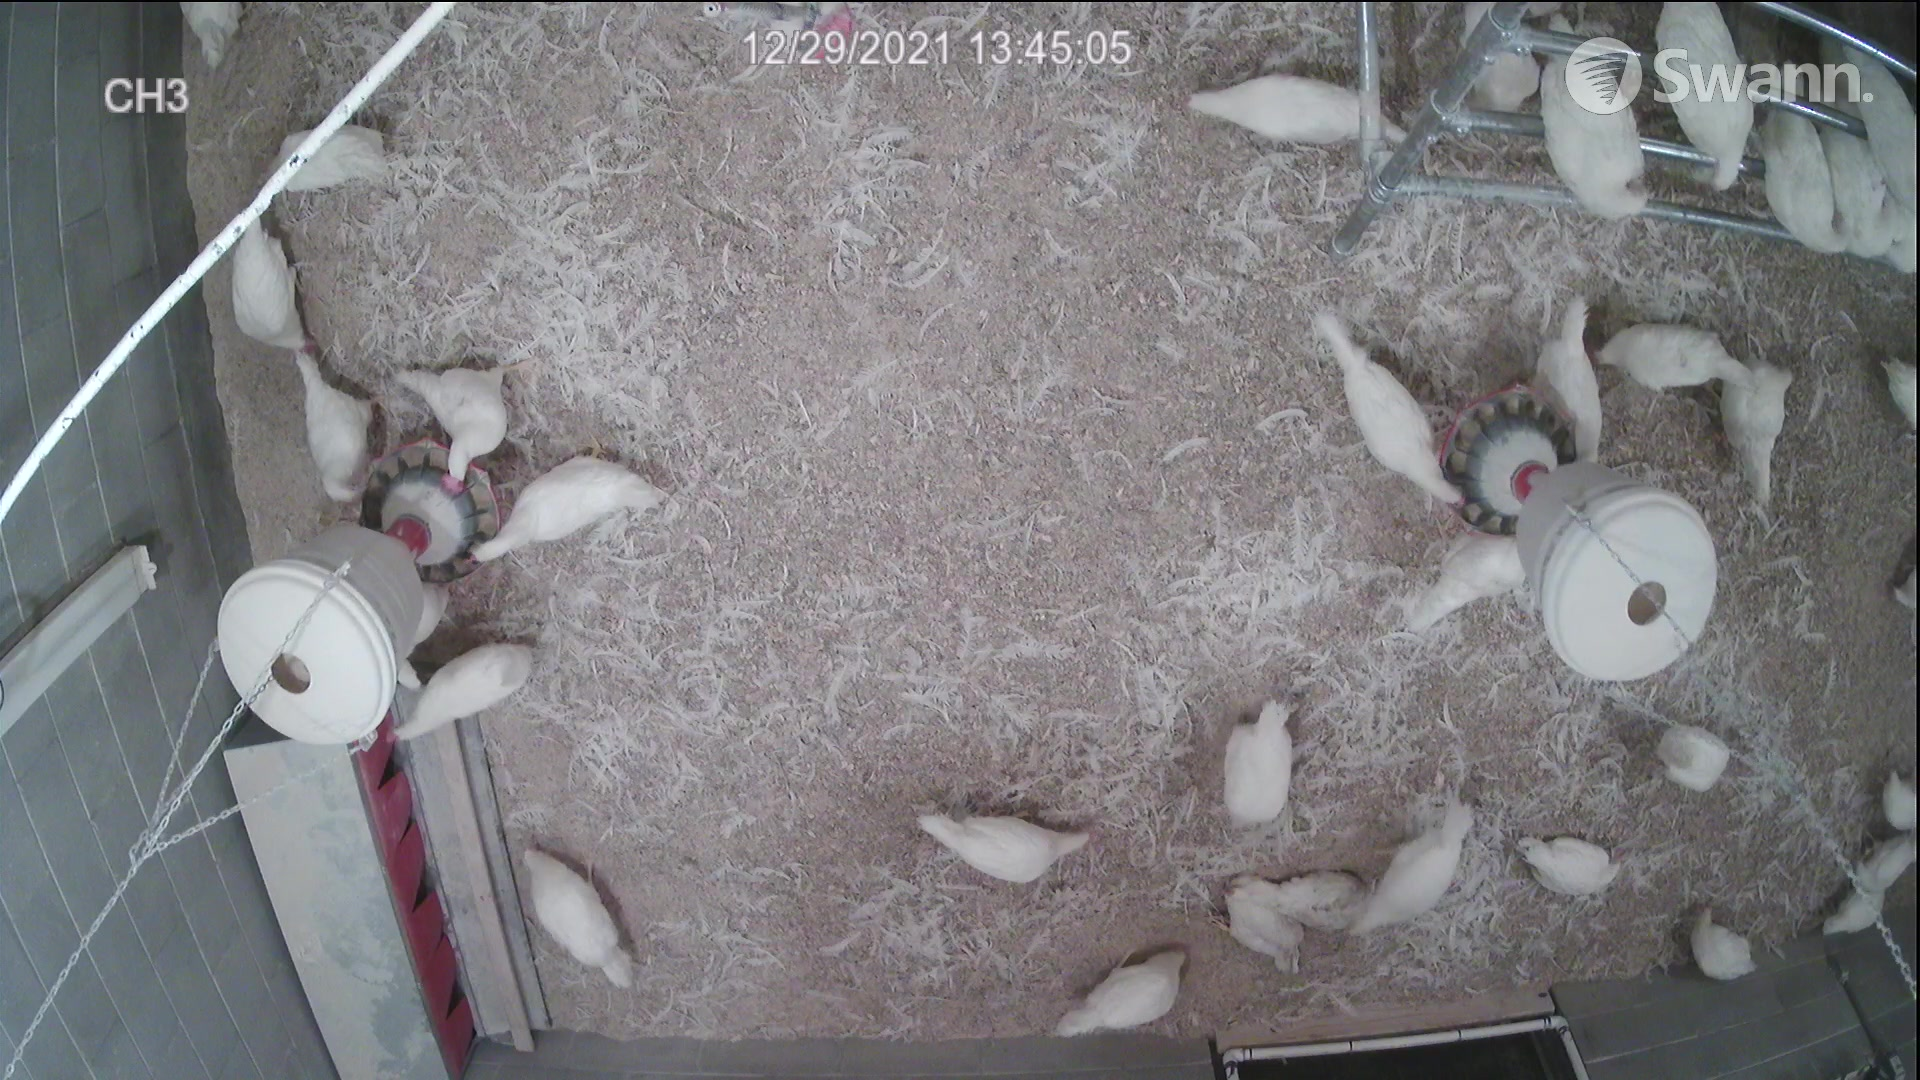Dust Bathing: (1244, 861, 1375, 942)
Feeding: (1320, 313, 1469, 527), (462, 448, 688, 582), (396, 357, 517, 495)
Foraging: (905, 790, 1116, 899), (506, 847, 641, 1000), (200, 195, 316, 339), (1030, 943, 1207, 1033), (1211, 698, 1323, 828), (1673, 905, 1771, 978), (1654, 712, 1725, 804)
Perching: (1523, 7, 1673, 218), (1636, 0, 1755, 182), (1741, 105, 1841, 251), (1841, 47, 1920, 222)
